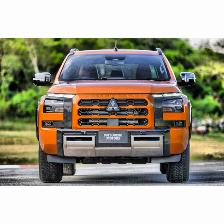NON-EV: (34, 39, 198, 185)
